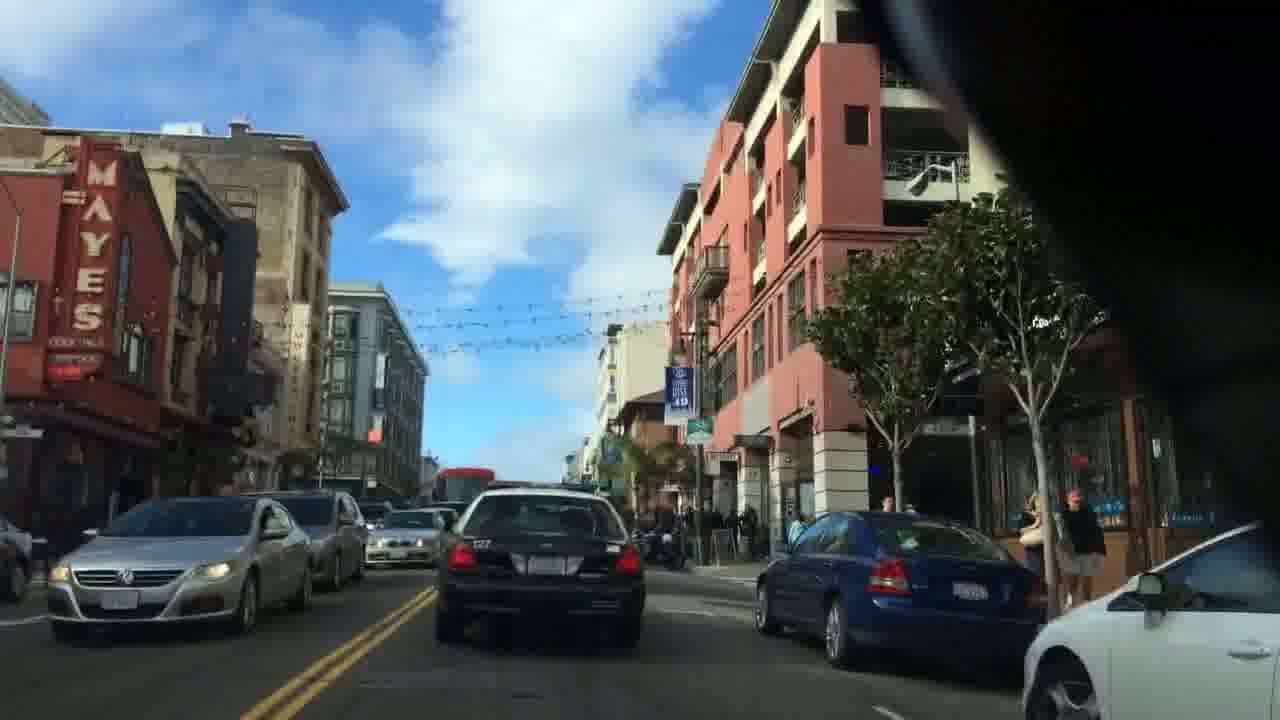car: (1020, 516, 1280, 720), (753, 507, 1044, 671), (48, 490, 313, 645), (437, 486, 646, 645), (263, 489, 366, 590), (362, 506, 445, 569)
pedestrian: (1057, 487, 1107, 608), (1016, 490, 1045, 577), (739, 503, 758, 561)
